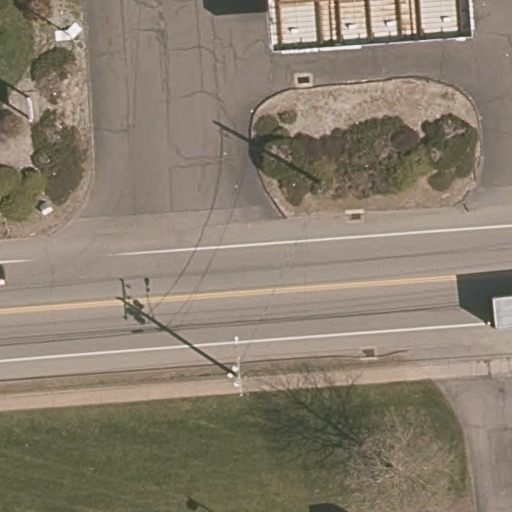DT: (221, 334, 258, 406)
